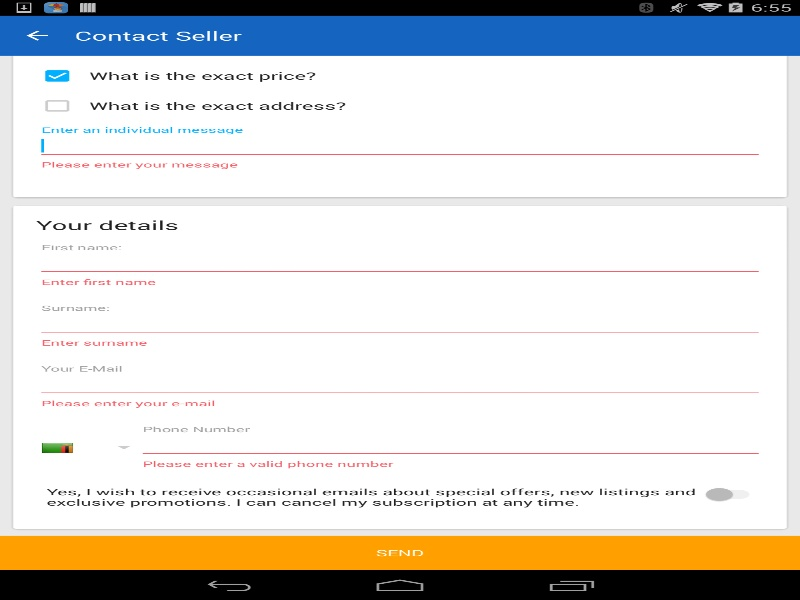Button: (0, 28, 74, 43)
Input: (36, 132, 764, 159), (36, 310, 764, 337), (36, 371, 764, 398), (36, 250, 764, 276), (137, 432, 764, 458)
